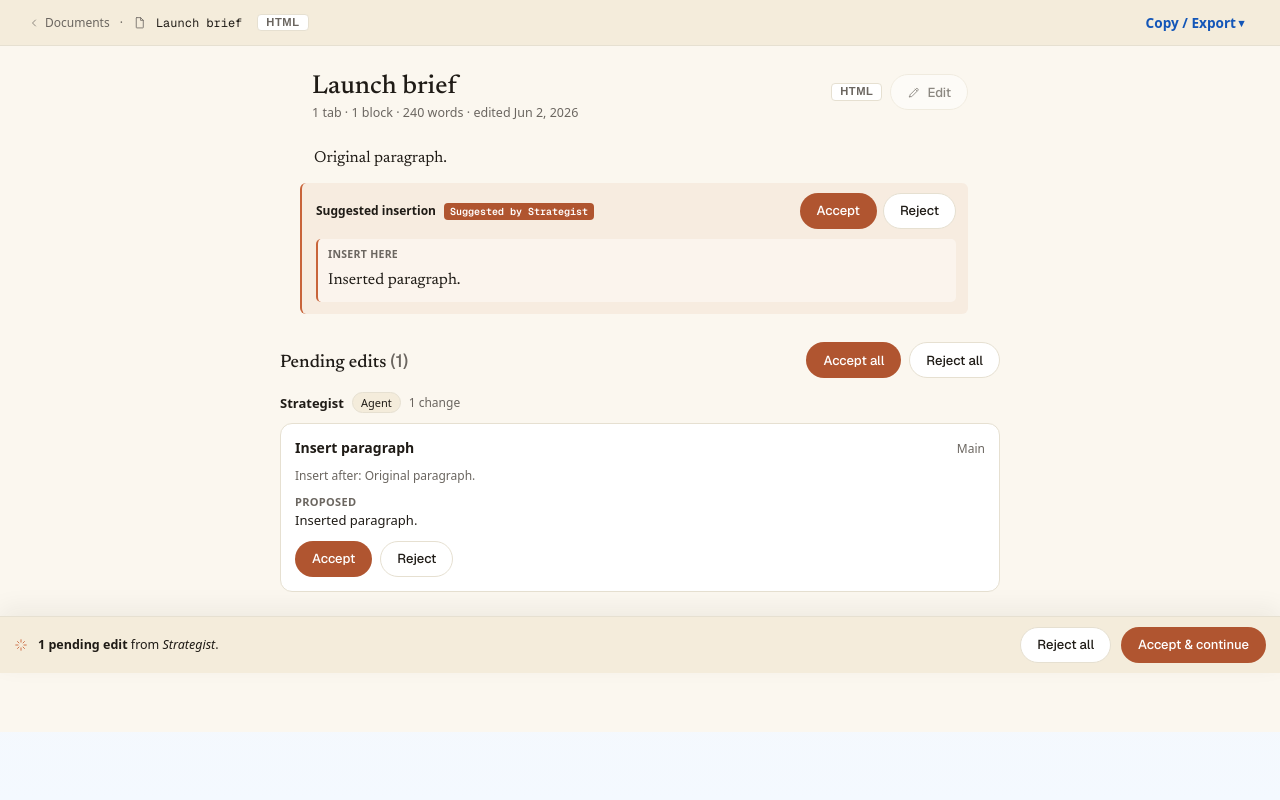
Test: DocumentDetailPage › accepts an inline insert suggestion at its document location
Expected: the text "Suggested insertion" is shown, [316,202,436,218]
Expected: the text "Insert here" is shown, [328,246,398,260]
Click the button with aria-label "Accept inline suggested insertion": [838, 210] box [800,192,877,228]
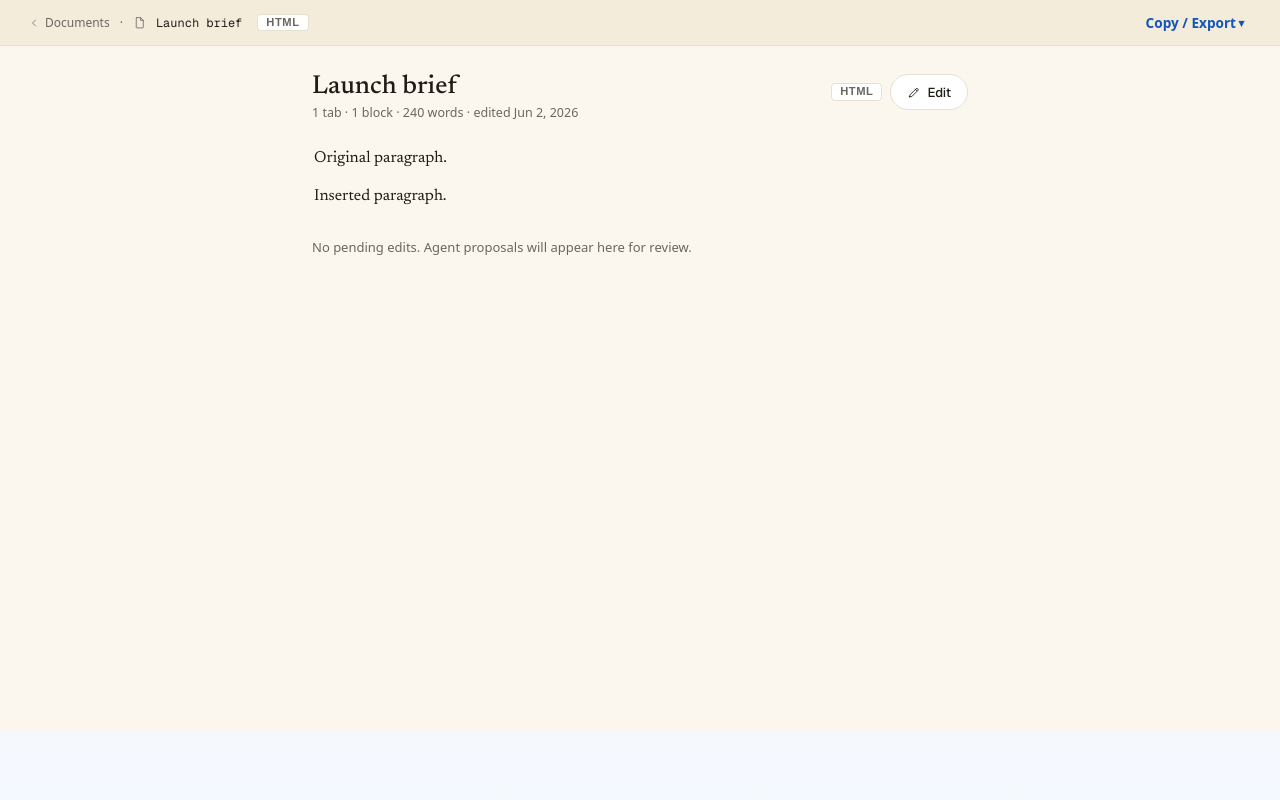
Expected: the text "Inserted paragraph." is shown, [314,188,446,204]
Now the text "No pending edits" is shown, box [312,238,692,256]
